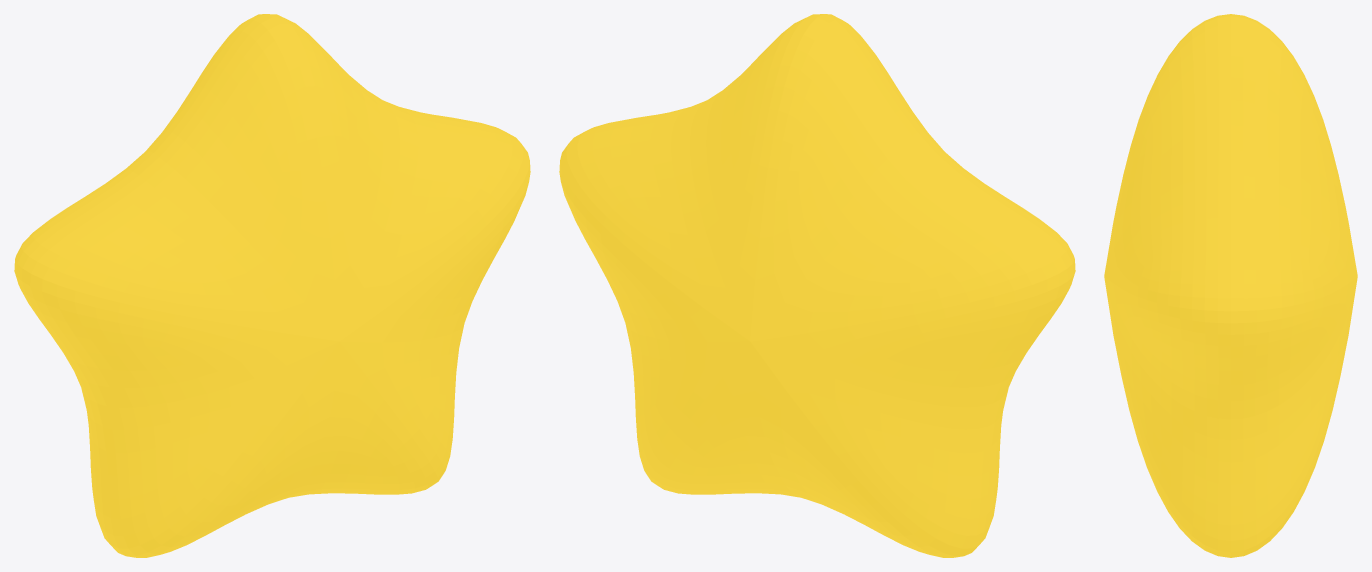
File: star new.glb
3 views of the same model, side by side, from view 1: azimuth 30°, elevation 25°; view 2: azimuth 150°, elevation 25°; view 3: azimuth 270°, elevation 25° (orthographic). The views are drawn at different scales.
Parts seen in each view (by area): view 1: star; view 2: star; view 3: star.
Boxes of the visible parts, x1,y1,x2,y2 form: star: (14,14,530,557); star: (559,14,1075,557); star: (1104,14,1357,557).
Size of the model in its own units: 1.47 by 1.41 by 0.6821.
